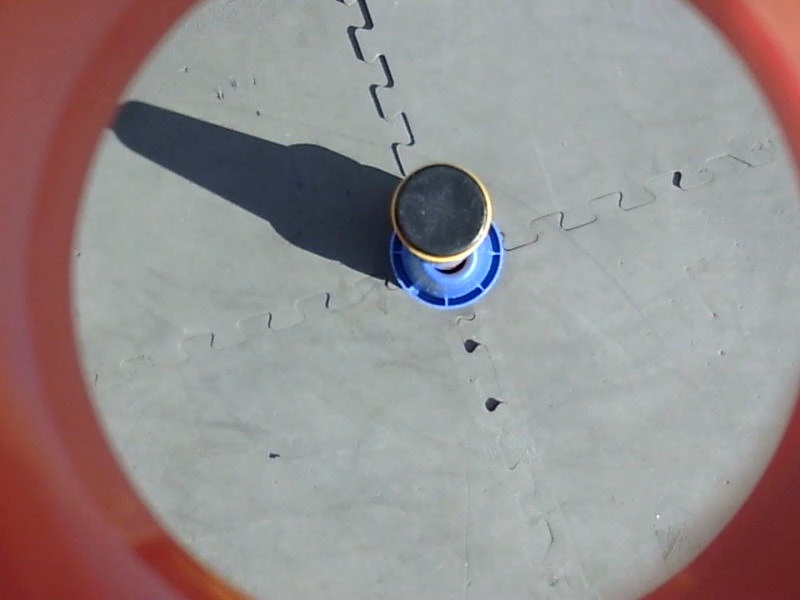tip: (383, 159, 500, 267)
